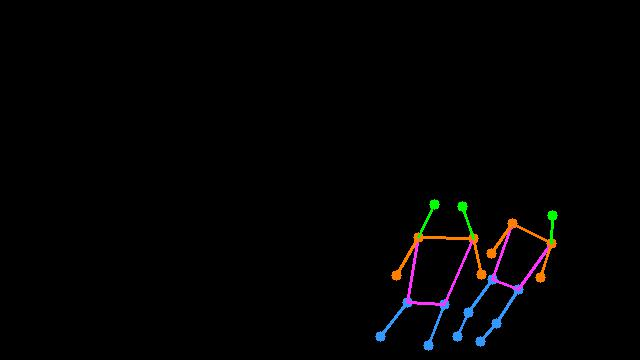normal: (362, 181, 571, 357)
